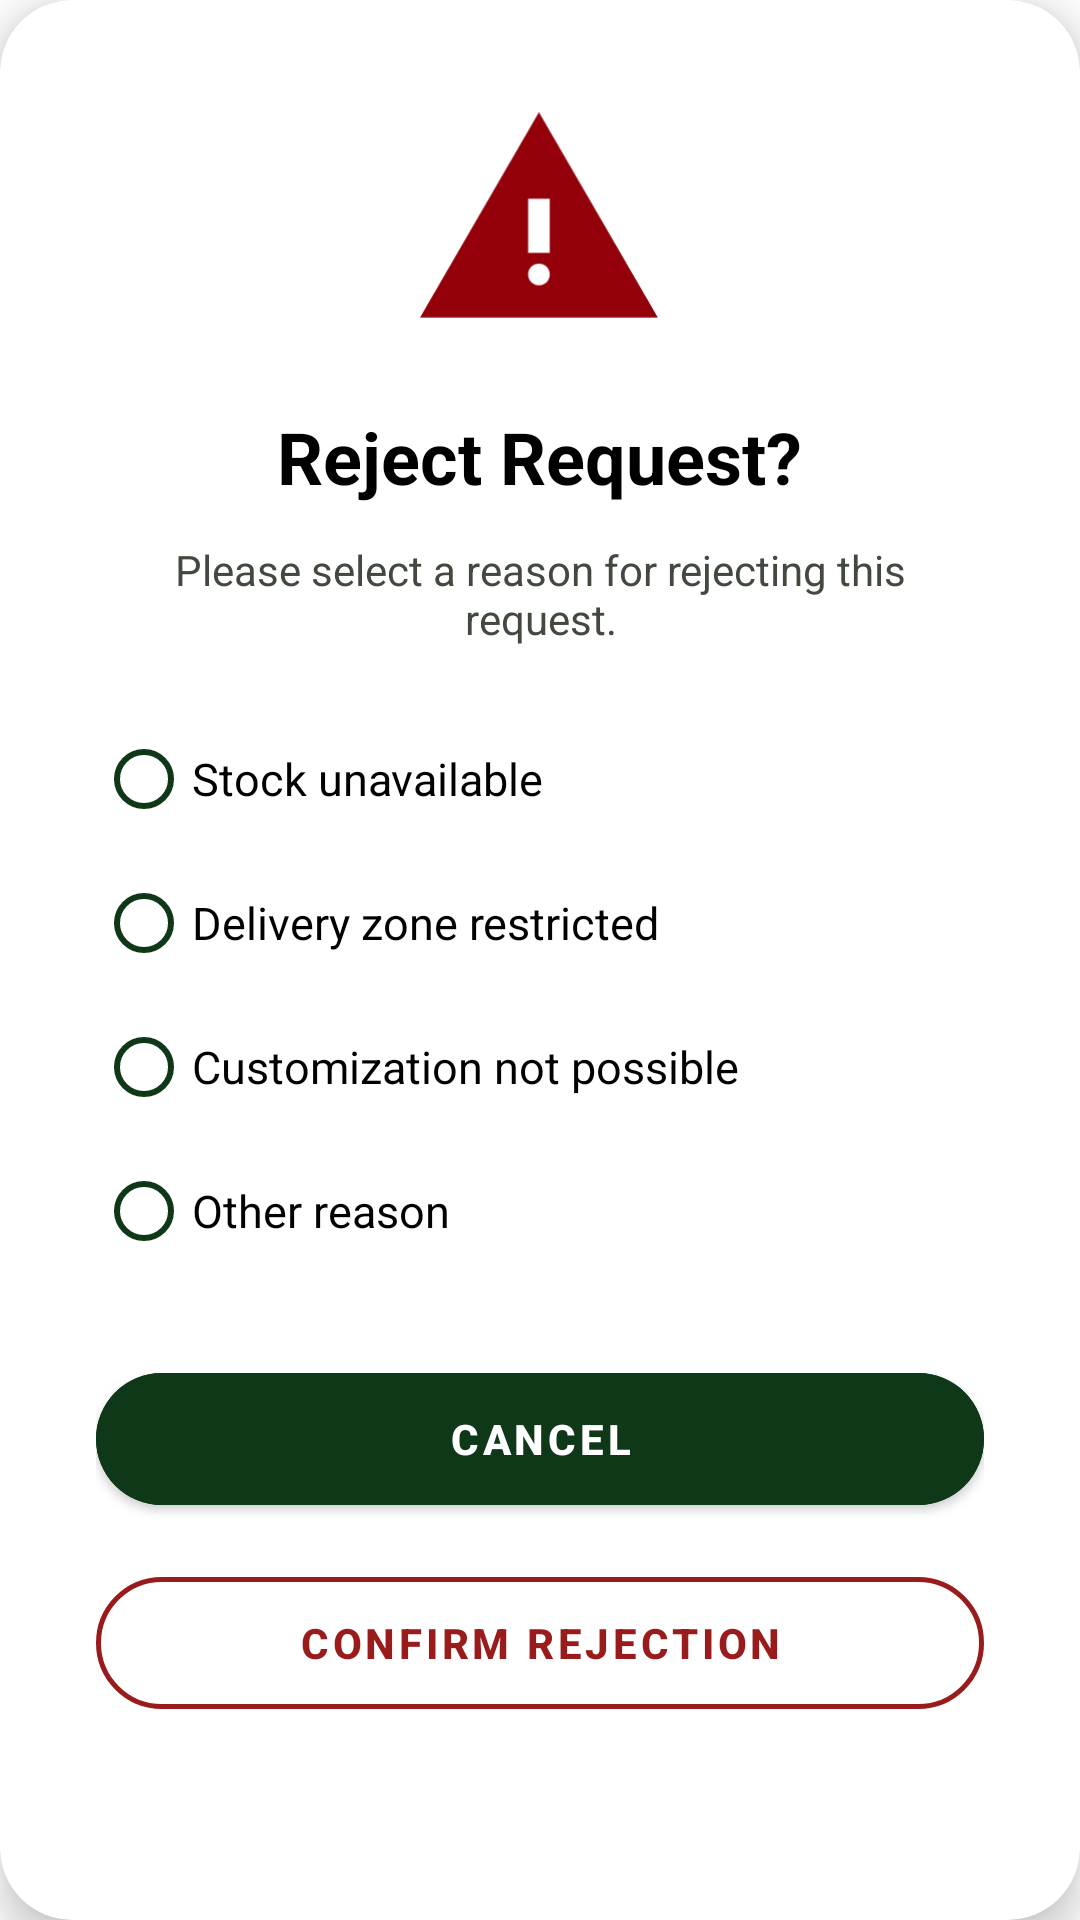

Icons on this 1080px×1920px Android screen, each with the point to tap as [x,y]:
warning modal: [539,215]
